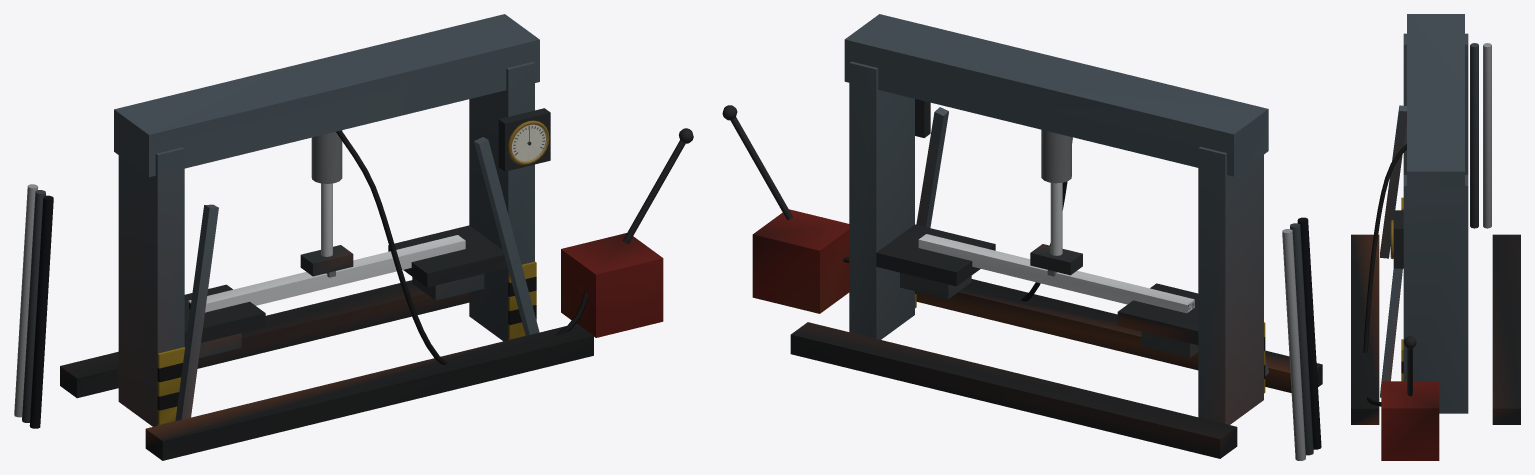
The model's file is bending-rig.glb.
The picture shows the model from 3 angles, left to right: view 1: azimuth 30°, elevation 25°; view 2: azimuth 150°, elevation 25°; view 3: azimuth 270°, elevation 25°; orthographic projection. The views are drawn at different scales.
Visible parts, largest first — view 1: rig, bar-aluminium, ram; view 2: rig, bar-aluminium, ram; view 3: rig.
Boxes of the visible parts, left/top/right/bottom form: rig: left=14, top=14, right=693, bottom=460; bar-aluminium: left=188, top=235, right=465, bottom=312; ram: left=300, top=130, right=353, bottom=277; rig: left=722, top=14, right=1322, bottom=460; bar-aluminium: left=918, top=234, right=1194, bottom=313; ram: left=1030, top=129, right=1082, bottom=276; rig: left=1351, top=14, right=1520, bottom=460.
Bounding box in the file's own units: 4.68 × 2.1 × 1.32.
